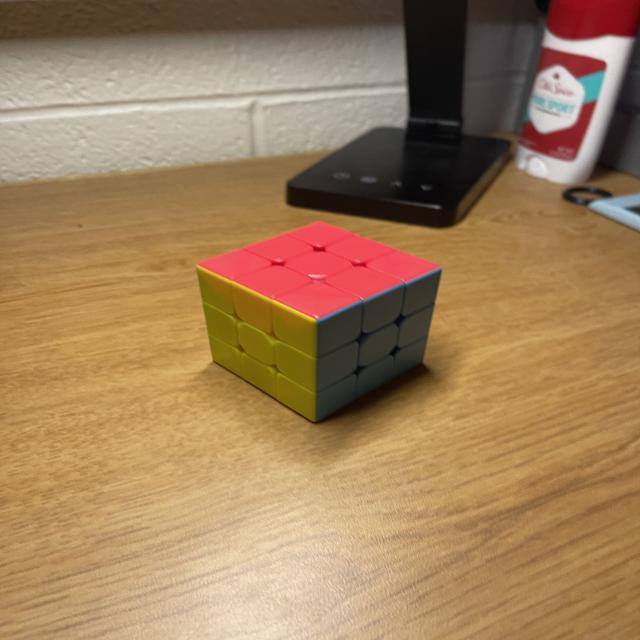Rubiks Cube: (197, 221, 440, 424)
